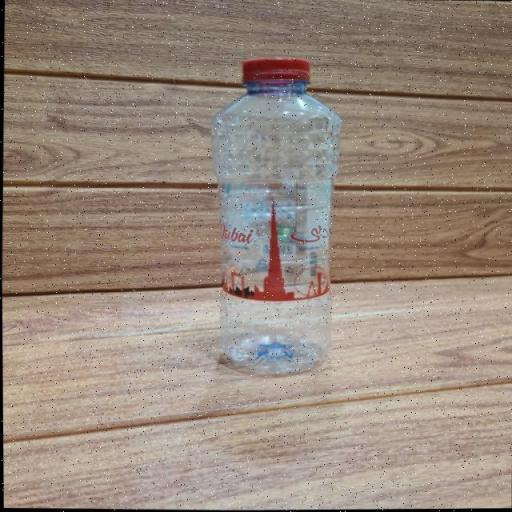plastic: (210, 54, 344, 376)
